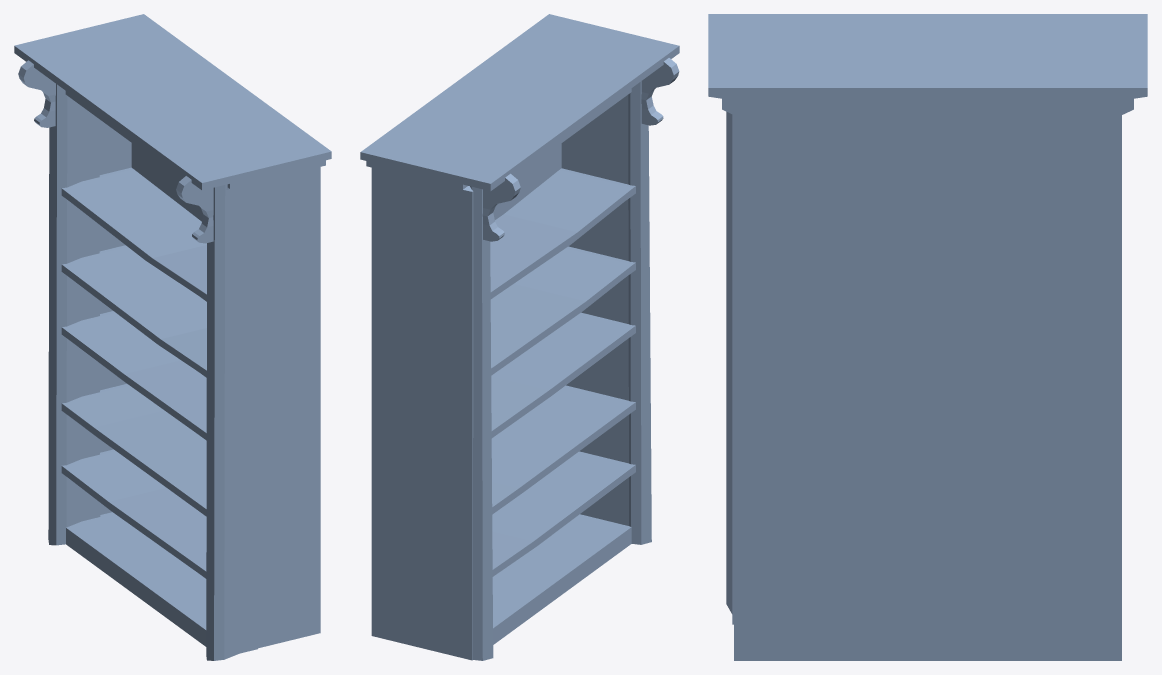
Rendered from SM_bookshelf.fbx.
3 views of the same model, side by side, from view 1: azimuth 30°, elevation 25°; view 2: azimuth 150°, elevation 25°; view 3: azimuth 270°, elevation 25° (orthographic). The views are drawn at different scales.
Visible parts, largest first — view 1: polySurface701; view 2: polySurface701; view 3: polySurface701.
Boxes of the visible parts, x1=… form: polySurface701: x1=14, y1=14, x2=331, y2=660; polySurface701: x1=360, y1=14, x2=679, y2=660; polySurface701: x1=708, y1=14, x2=1147, y2=660.
Size of the model in its own units: 109 by 364 by 253.
